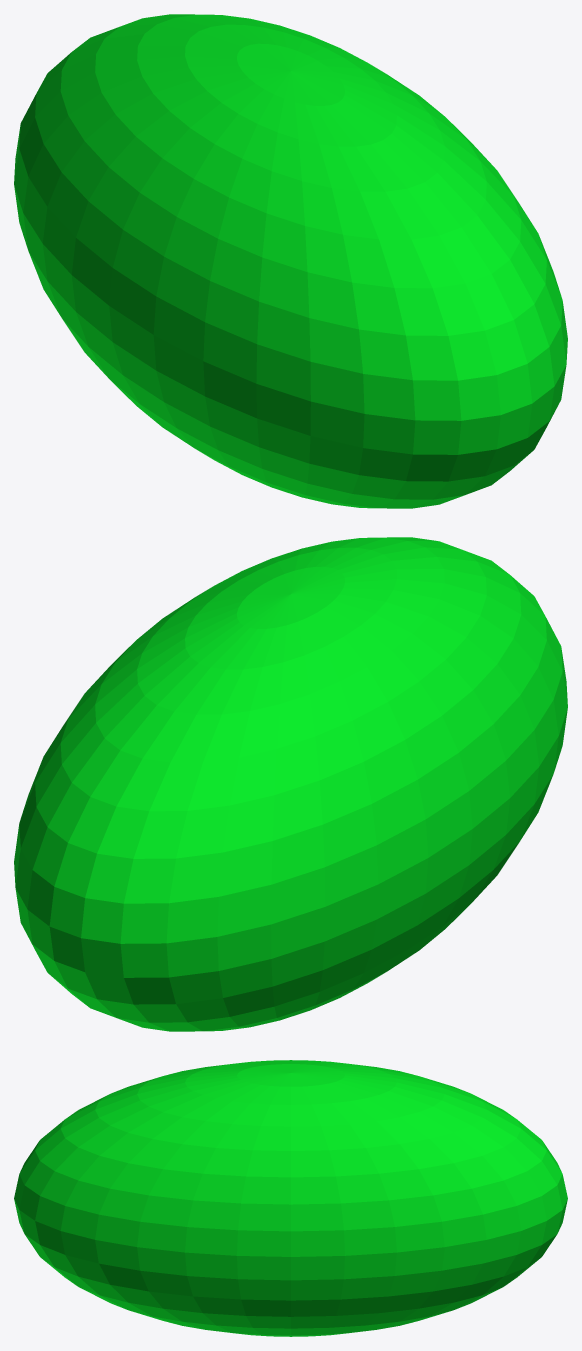
The model's file is ellipsoid.dae.
3 views of the same model, one above another, from view 1: azimuth 30°, elevation 25°; view 2: azimuth 150°, elevation 25°; view 3: azimuth 270°, elevation 25° (orthographic). The views are drawn at different scales.
Parts seen in each view (by area): view 1: Ellipsoid; view 2: Ellipsoid; view 3: Ellipsoid.
Part boxes in pixels (bbox=[...]): Ellipsoid: bbox=[14, 14, 567, 508]; Ellipsoid: bbox=[14, 537, 567, 1031]; Ellipsoid: bbox=[14, 1060, 567, 1336].
Bounding box in the file's own units: 0.866 × 1.73 × 0.866.
